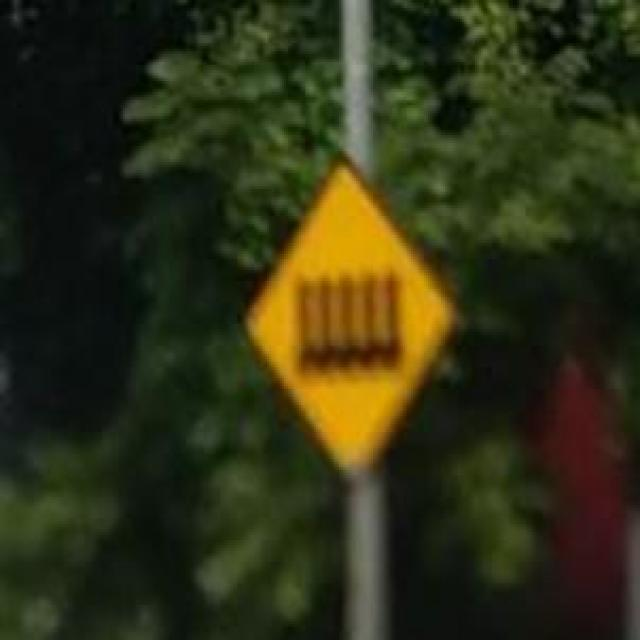traffic sign: (255, 170, 454, 475)
